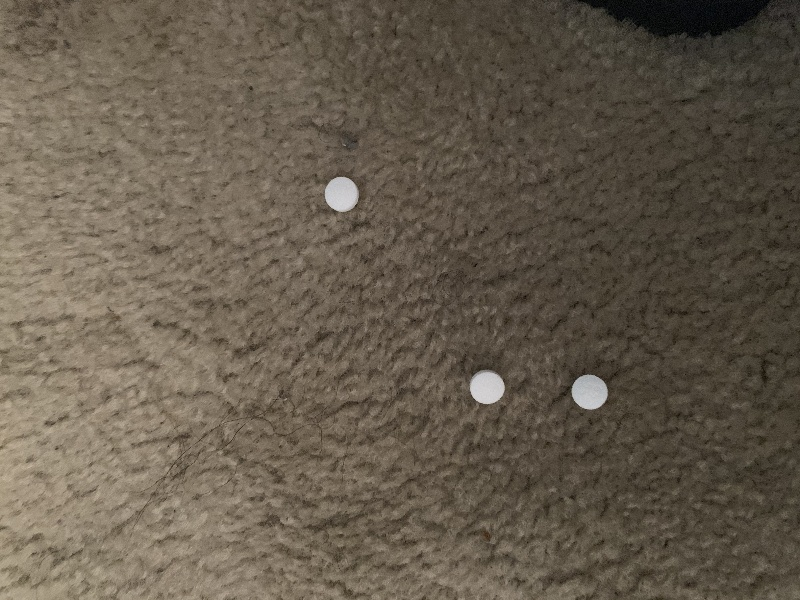Aspirin: (567, 369, 614, 415), (464, 366, 509, 410), (322, 173, 364, 217)
